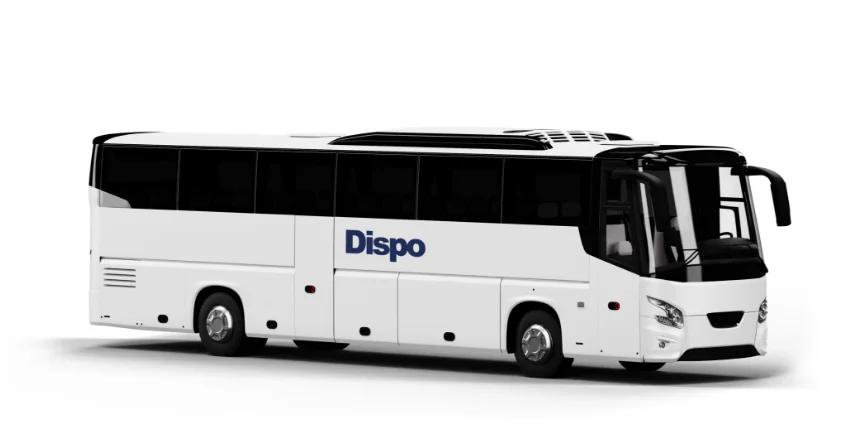bus: (84, 128, 797, 390)
